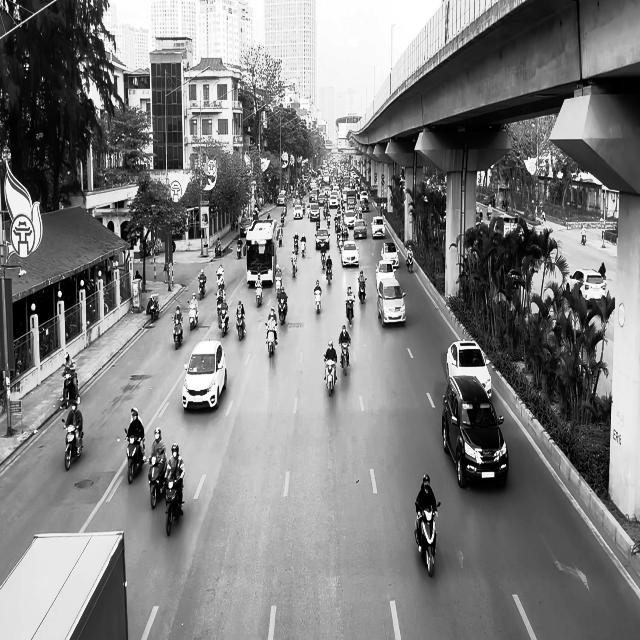bus: (245, 218, 277, 287)
car: (441, 374, 509, 488), (182, 339, 227, 411), (446, 340, 492, 400), (565, 268, 607, 306), (377, 276, 406, 326), (341, 240, 359, 266)
motorbike: (414, 501, 440, 577), (164, 474, 184, 536), (62, 413, 83, 471), (124, 429, 146, 484), (147, 452, 167, 509), (324, 354, 336, 396), (171, 314, 183, 350), (265, 323, 277, 358), (339, 341, 350, 375), (218, 304, 229, 338), (278, 293, 288, 324), (188, 300, 198, 330), (149, 294, 159, 322), (345, 297, 354, 326), (236, 313, 245, 341), (313, 288, 322, 314), (358, 277, 366, 303), (255, 286, 263, 308), (198, 277, 205, 299), (291, 255, 297, 278), (406, 254, 413, 273), (236, 239, 242, 259)
